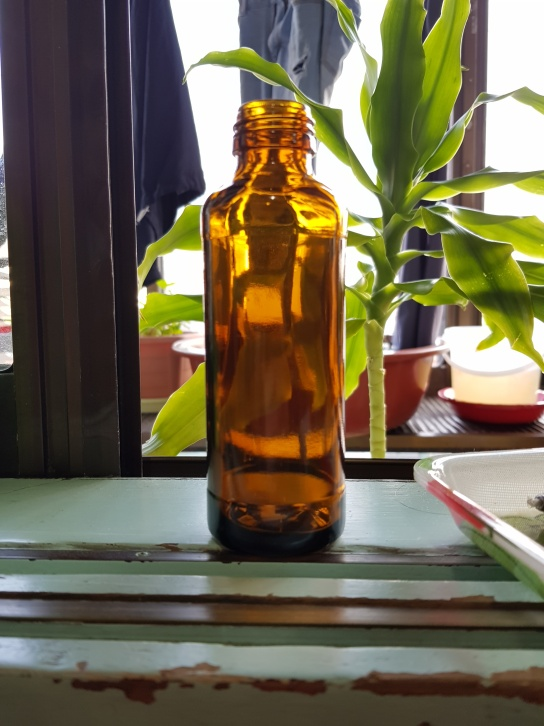Glass: (202, 98, 348, 552)
